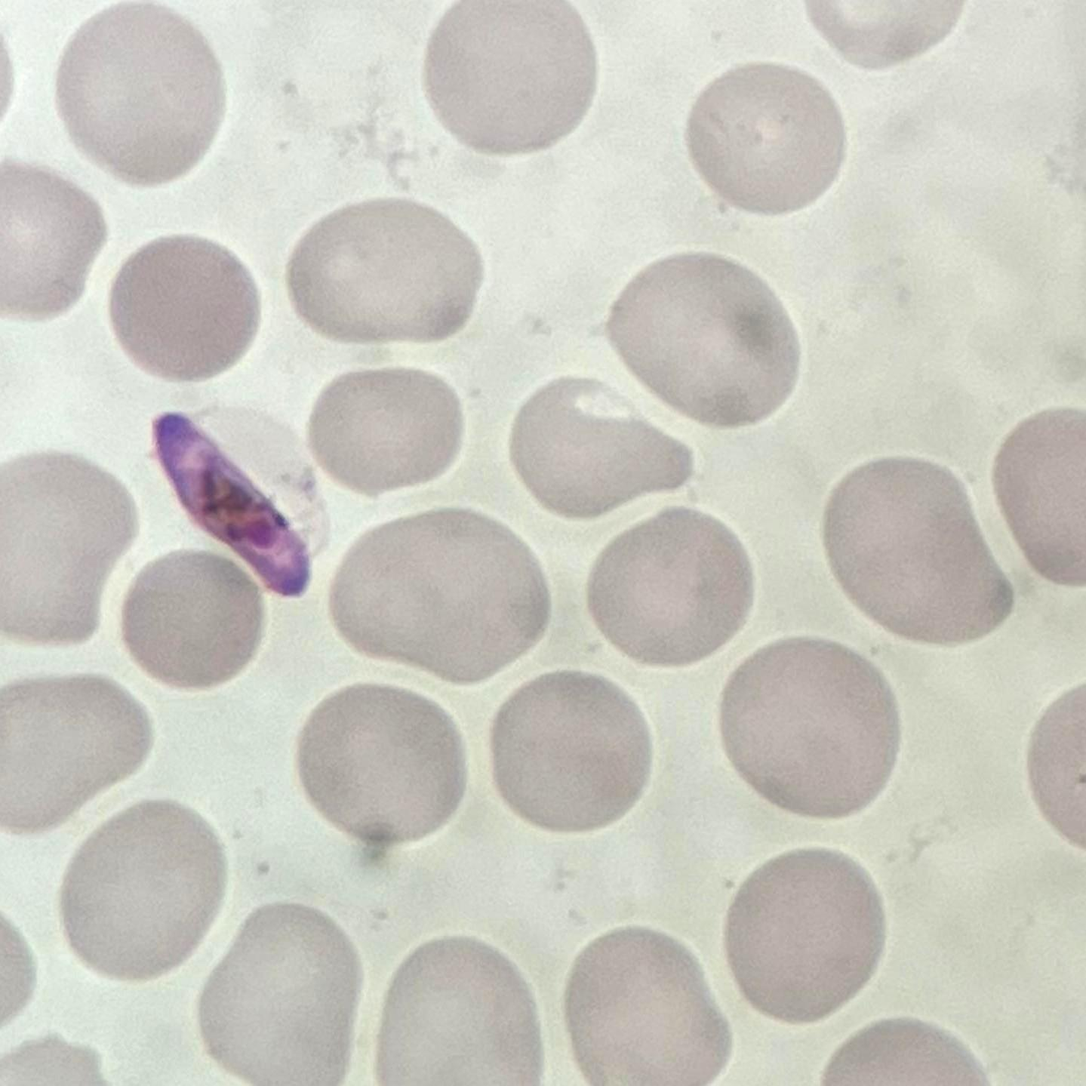Infected: (151, 403, 315, 600)
Uninfected: (328, 506, 548, 684), (823, 455, 1014, 645), (719, 637, 904, 825), (604, 254, 797, 430), (56, 5, 226, 183), (195, 906, 361, 1086), (59, 799, 223, 979), (288, 198, 485, 346), (721, 848, 884, 1025), (511, 373, 698, 523), (296, 683, 466, 848), (562, 928, 734, 1086), (422, 2, 598, 156), (584, 509, 755, 667), (488, 671, 651, 833), (0, 448, 134, 641), (371, 936, 540, 1086), (684, 64, 846, 217), (0, 676, 146, 832), (107, 235, 260, 383), (305, 367, 469, 497), (122, 552, 266, 690)
